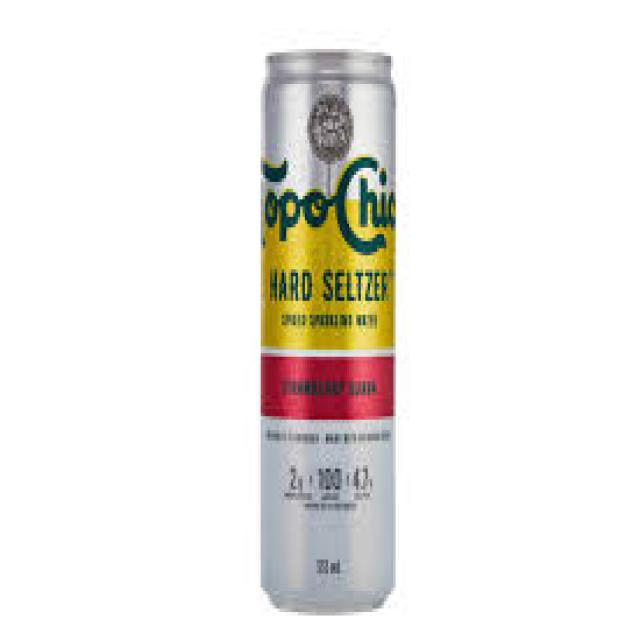Cans: (251, 31, 403, 619)
